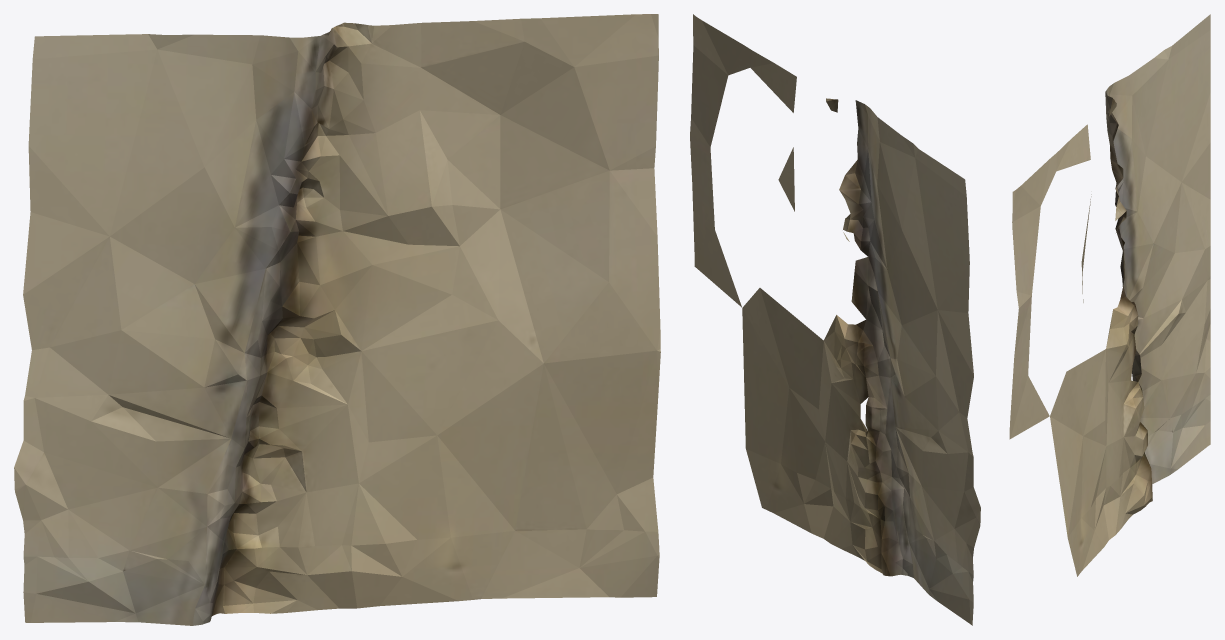
The picture shows the model from 3 angles, left to right: view 1: azimuth 30°, elevation 25°; view 2: azimuth 150°, elevation 25°; view 3: azimuth 270°, elevation 25°; orthographic projection. The views are drawn at different scales.
Bounding box in the file's own units: 1.53 × 1.67 × 0.7043.
2 materials, 2 textured.
